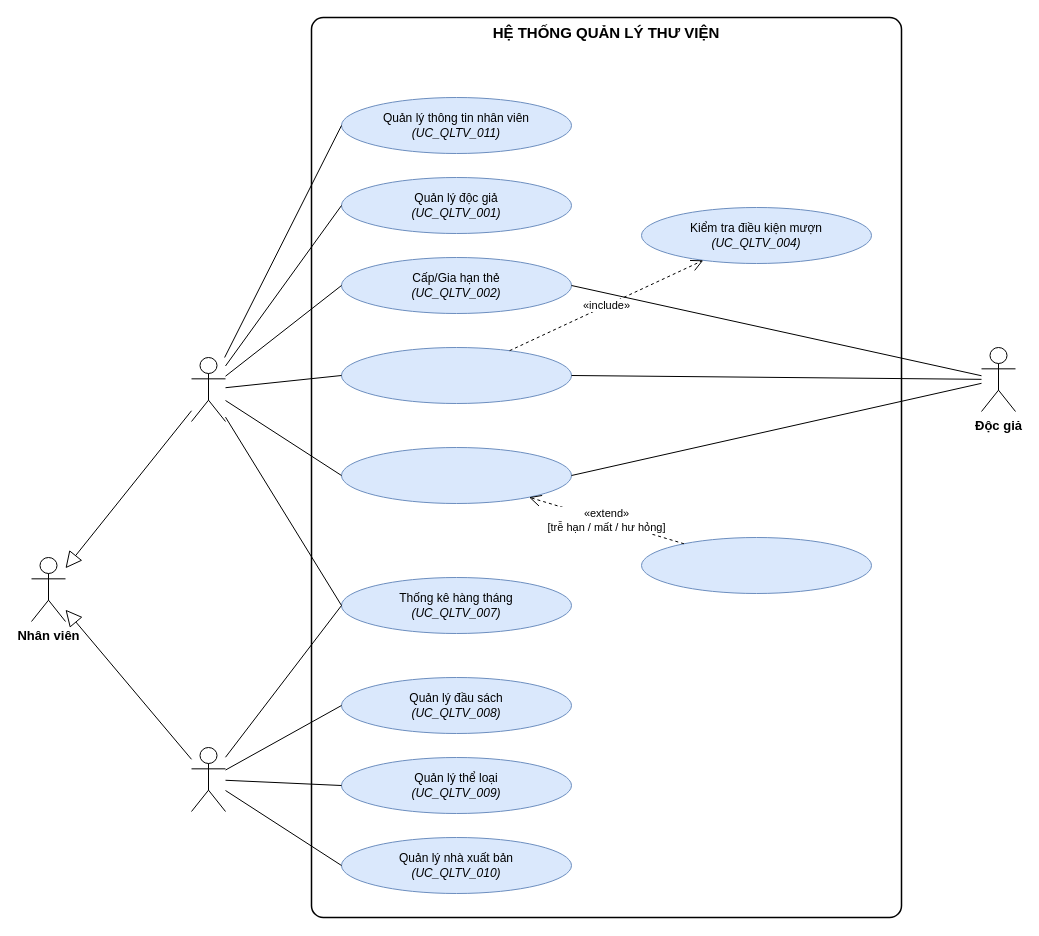
Image size: 1039x936. Some labels were removed from this diagram. The centre of each missing label's shape, as x and y in pixels:
"Lập phiếu mượn (UC_QLTV_003)" goes at point (456, 375).
"Lập phiếu phạt (UC_QLTV_006)" goes at point (756, 565).
"Nhận trả sách (UC_QLTV_005)" goes at point (456, 475).
"NV quản lý sách" goes at point (208, 779).
"Thủ thư" goes at point (208, 389).
